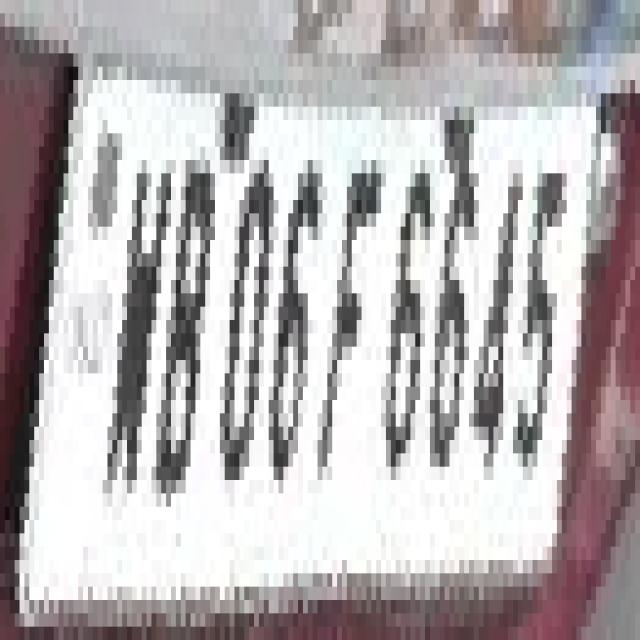license_plate: (0, 67, 616, 613)
